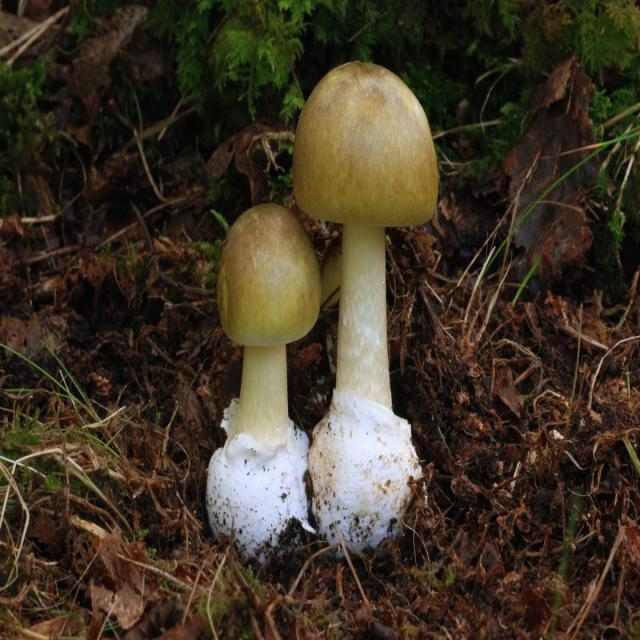death-cap: (292, 62, 440, 554), (205, 203, 322, 561)
